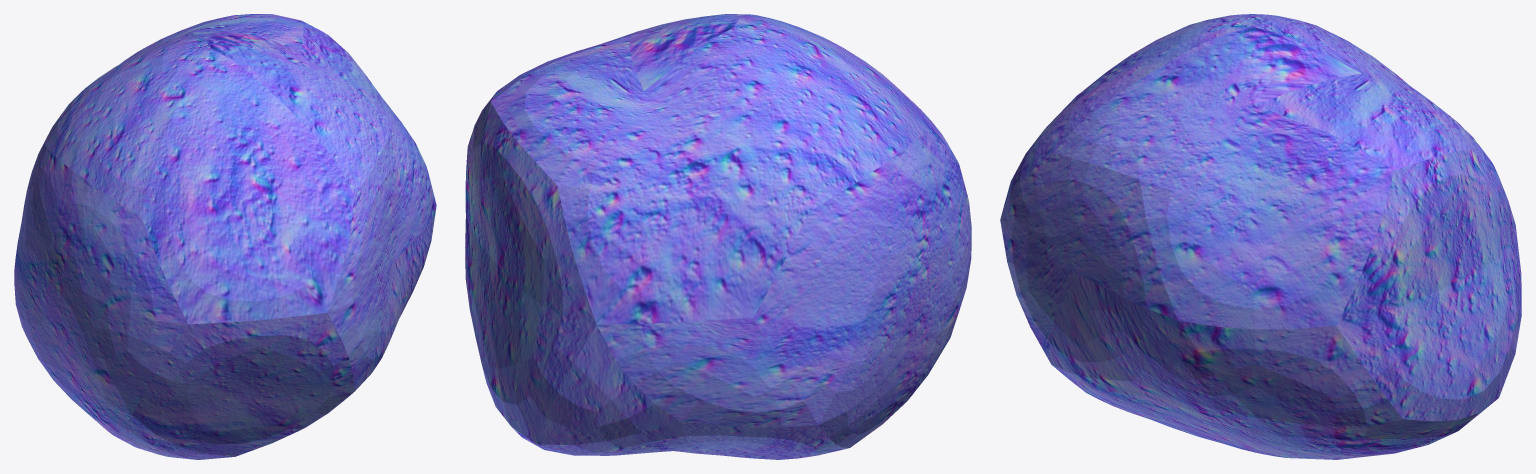
The model's file is bigasteroid9_LOD2.fbx.
3 views of the same model, side by side, from view 1: azimuth 30°, elevation 25°; view 2: azimuth 150°, elevation 25°; view 3: azimuth 270°, elevation 25° (orthographic). The views are drawn at different scales.
Visible parts, largest first — view 1: Icosphere; view 2: Icosphere; view 3: Icosphere.
Boxes of the visible parts, x1,y1,x2,y2 form: Icosphere: [14, 14, 436, 459]; Icosphere: [465, 14, 971, 459]; Icosphere: [1000, 14, 1521, 459].
Size of the model in its own units: 212 by 210 by 239.
